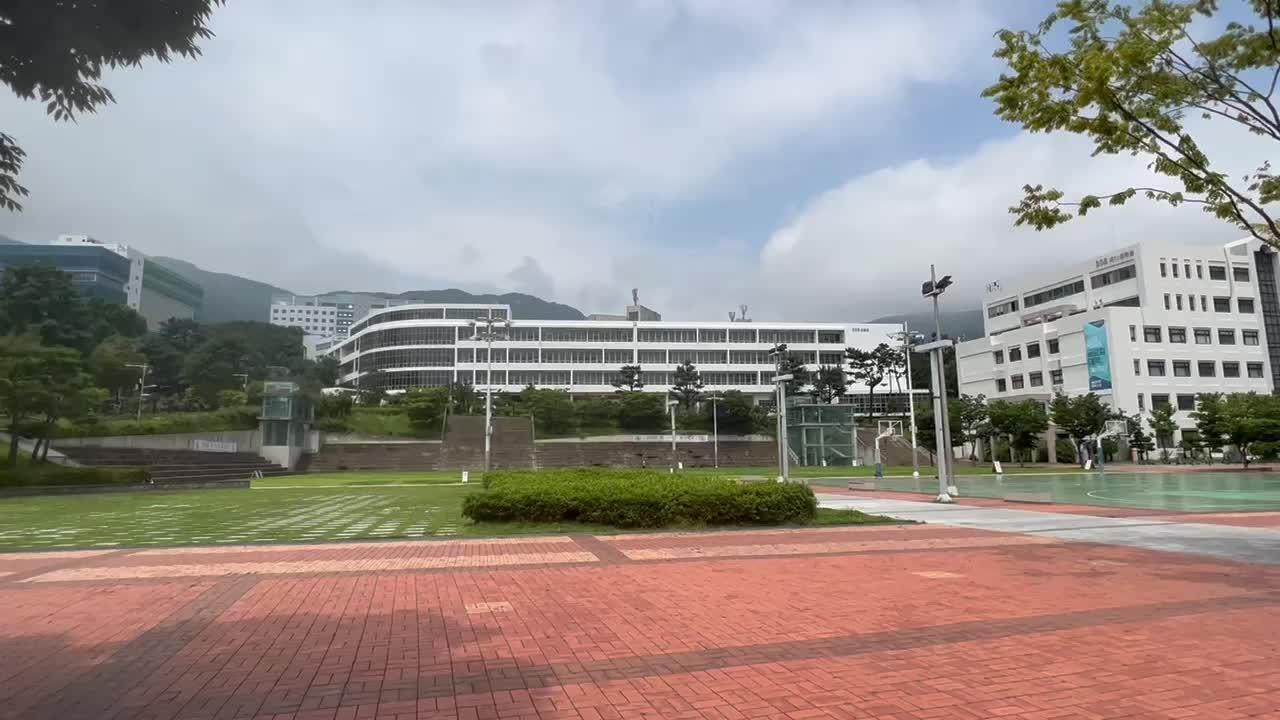building: (354, 287, 863, 366)
